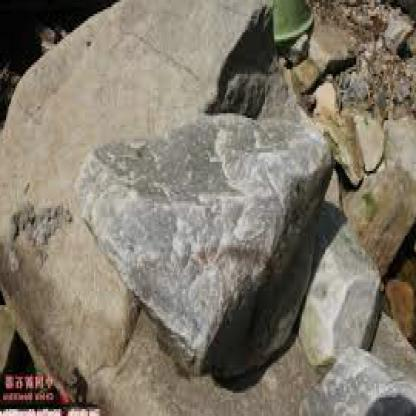Metamorphic_Quartize: (75, 88, 336, 365)
